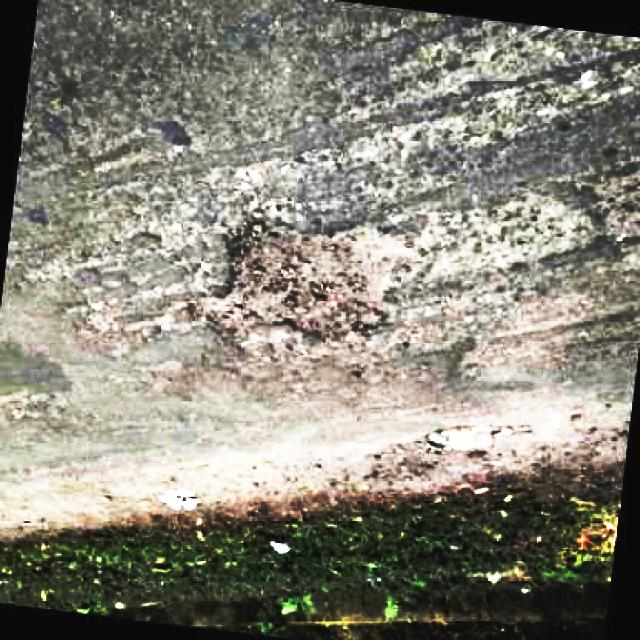pothole: (189, 212, 425, 345)
